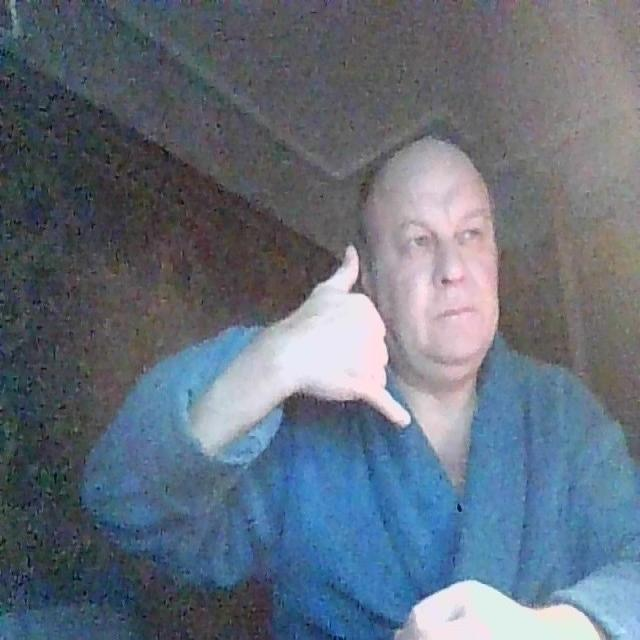call: (282, 239, 414, 430)
